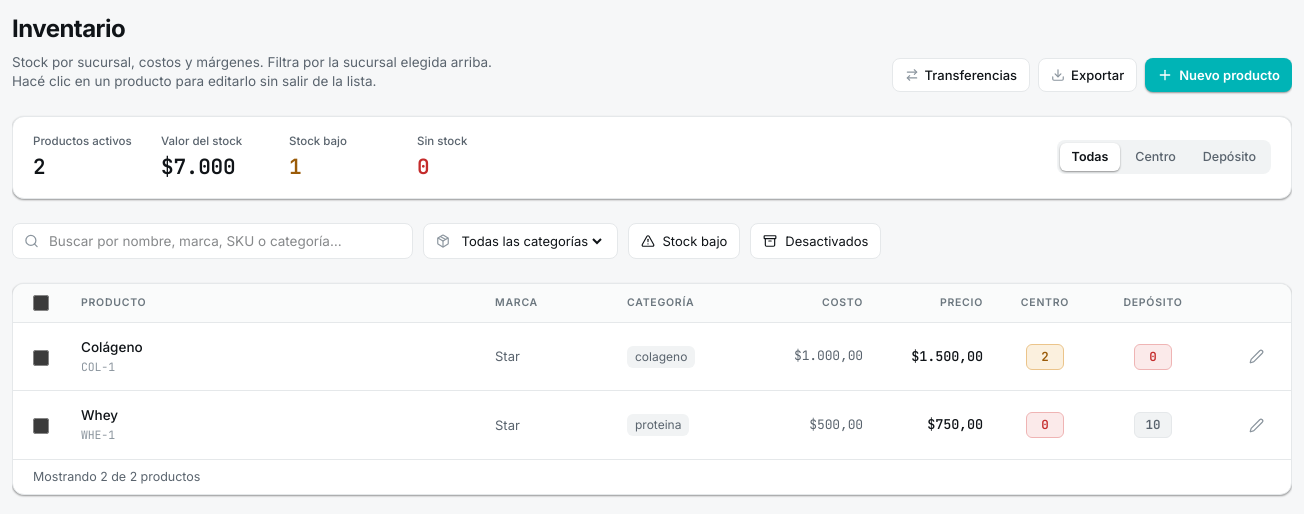
it: Elegir una sucursal acota el listado Y los indicadores › deja fuera de la tabla los productos que esa sucursal no maneja
Expected: the text "Colágeno" is shown, [81, 339, 143, 355]
Expected: the text "Whey" is shown, [81, 407, 118, 423]
Click the button "Depósito". click: point(1229, 158)
box: [1191, 144, 1268, 172]
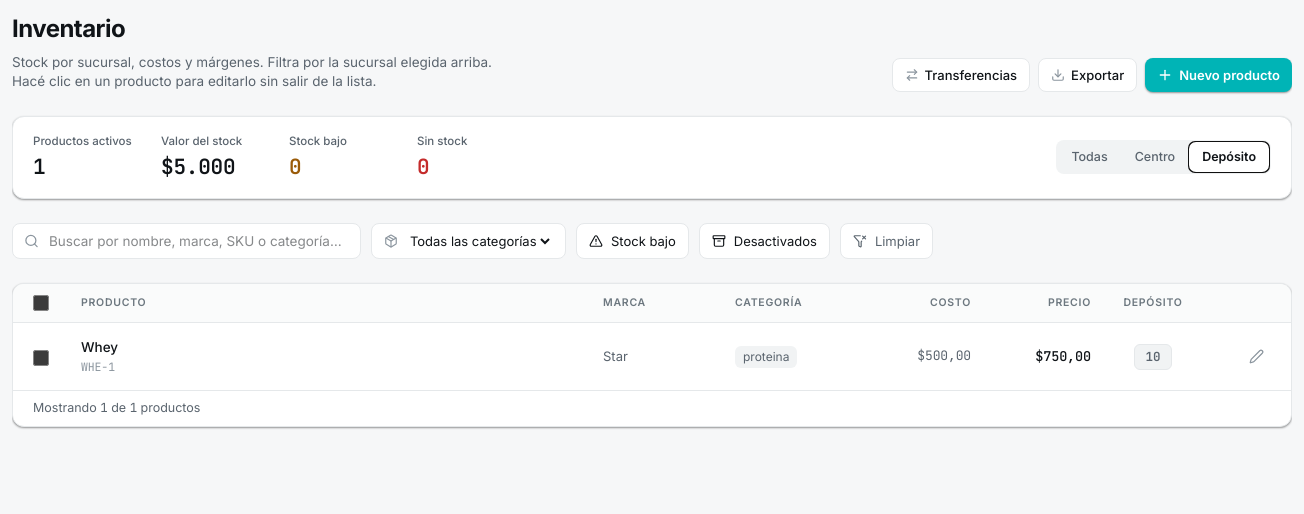
Expected: the text "Whey" is shown, [81, 339, 118, 355]
Expected: the button "Colágeno" is gone
